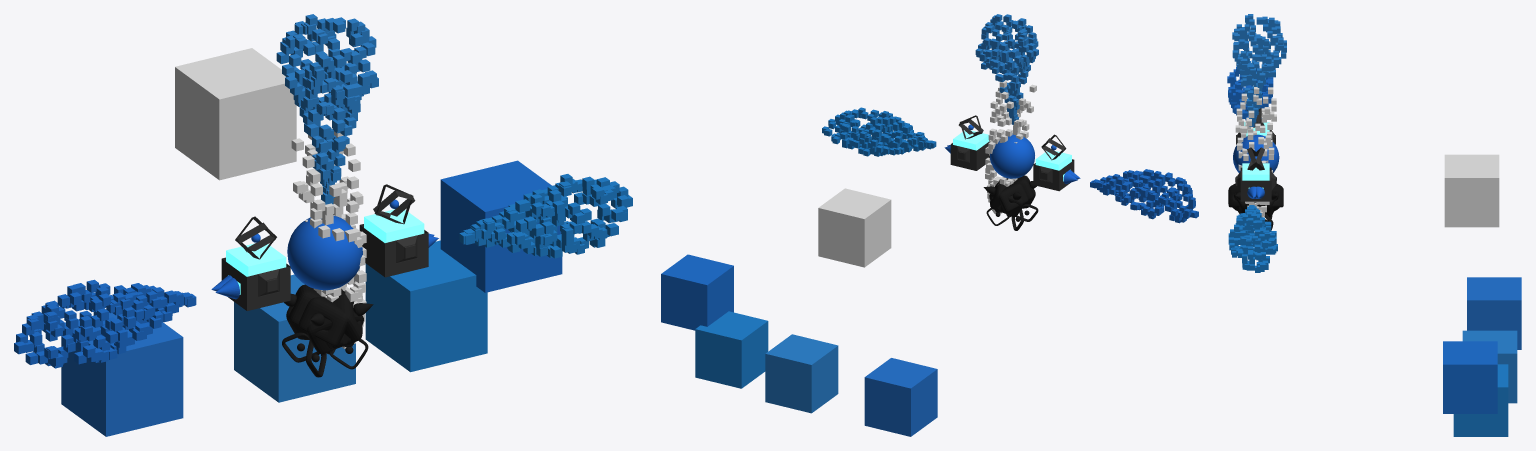
3 renders of one model, left to right at view 1: azimuth 30°, elevation 25°; view 2: azimuth 150°, elevation 25°; view 3: azimuth 270°, elevation 25°, orthographic. The views are drawn at different scales.
Parts seen in each view (by area): view 1: Cube, Cube.007, Cube.005, Cube.006, Cube.004, Cube.003, Cube.001, Sphere.001, Cube.002; view 2: Cube.004, Cube, Cube.005, Cube.007, Cube.006, Cube.003, Cube.001, Sphere.001, Cube.002; view 3: Cube, Cube.006, Cube.005, Cube.007, Cube.004, Cube.003, Cube.001, Sphere.001, Cube.002.
Part boxes in pixels (box(x1,y1,x2,y2)): Cube: box(175, 48, 296, 180); Cube.007: box(365, 240, 487, 372); Cube.005: box(61, 312, 183, 436); Cube.006: box(440, 160, 562, 292); Cube.004: box(234, 274, 355, 402); Cube.003: box(211, 184, 438, 310); Cube.001: box(282, 284, 373, 377); Sphere.001: box(287, 216, 362, 290); Cube.002: box(226, 209, 424, 294); Cube.004: box(765, 334, 838, 413); Cube: box(818, 188, 891, 267); Cube.005: box(864, 358, 937, 436); Cube.007: box(695, 311, 768, 388); Cube.006: box(661, 254, 733, 330); Cube.003: box(944, 115, 1080, 191); Cube.001: box(983, 175, 1038, 230); Sphere.001: box(990, 133, 1034, 178); Cube.002: box(953, 130, 1071, 181); Cube: box(1444, 154, 1499, 227); Cube.006: box(1443, 341, 1497, 413); Cube.005: box(1467, 277, 1521, 349); Cube.007: box(1453, 364, 1508, 436); Cube.004: box(1462, 330, 1517, 403); Cube.003: box(1236, 108, 1275, 201); Cube.001: box(1228, 177, 1283, 230); Sphere.001: box(1233, 134, 1279, 172); Cube.002: box(1242, 122, 1269, 188).
Bounding box in the file's own units: 1805 × 1318 × 1076.
